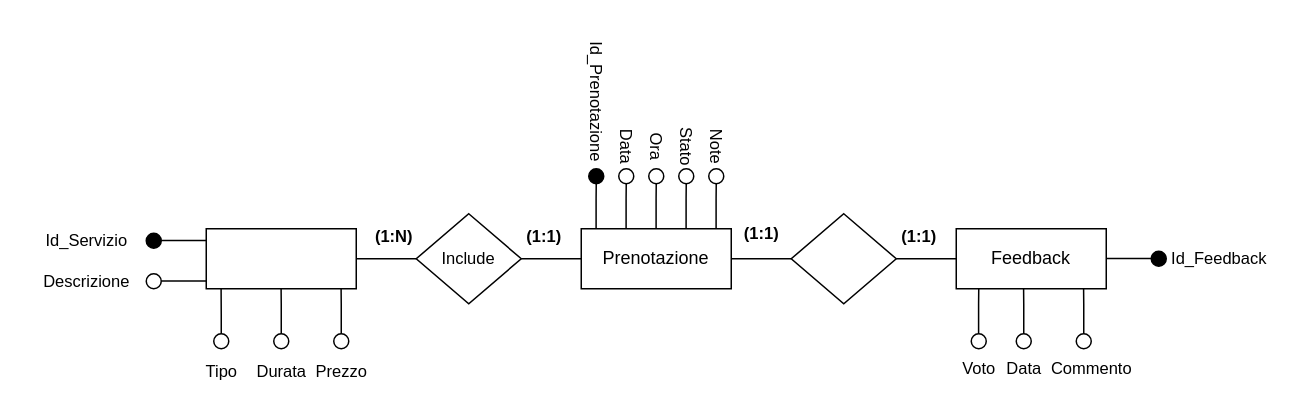
The diagram is 1311 pixels wide and 419 high, and some of its shapes have lost their labels. The shapes that lost their labels are listed below. From the top down, each one's box as (x1, y1, x2, y2) in pixels, then its label:
(205, 227, 356, 289): Servizio
(790, 212, 896, 304): Riceve
